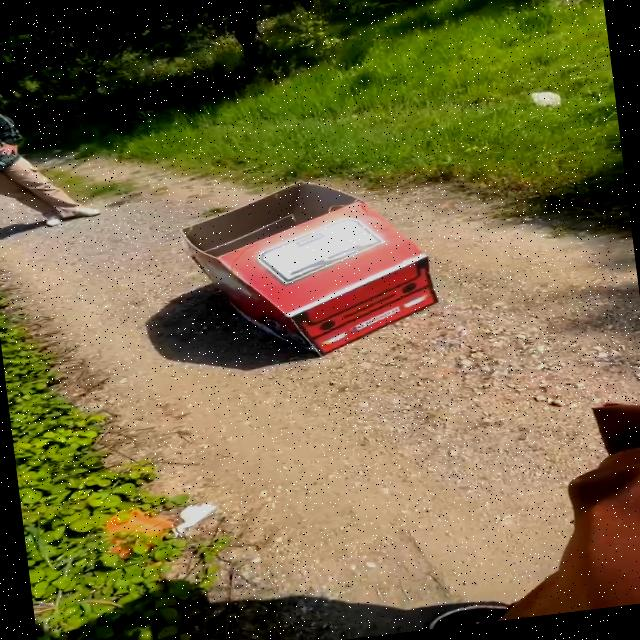red_car: (153, 157, 485, 385)
